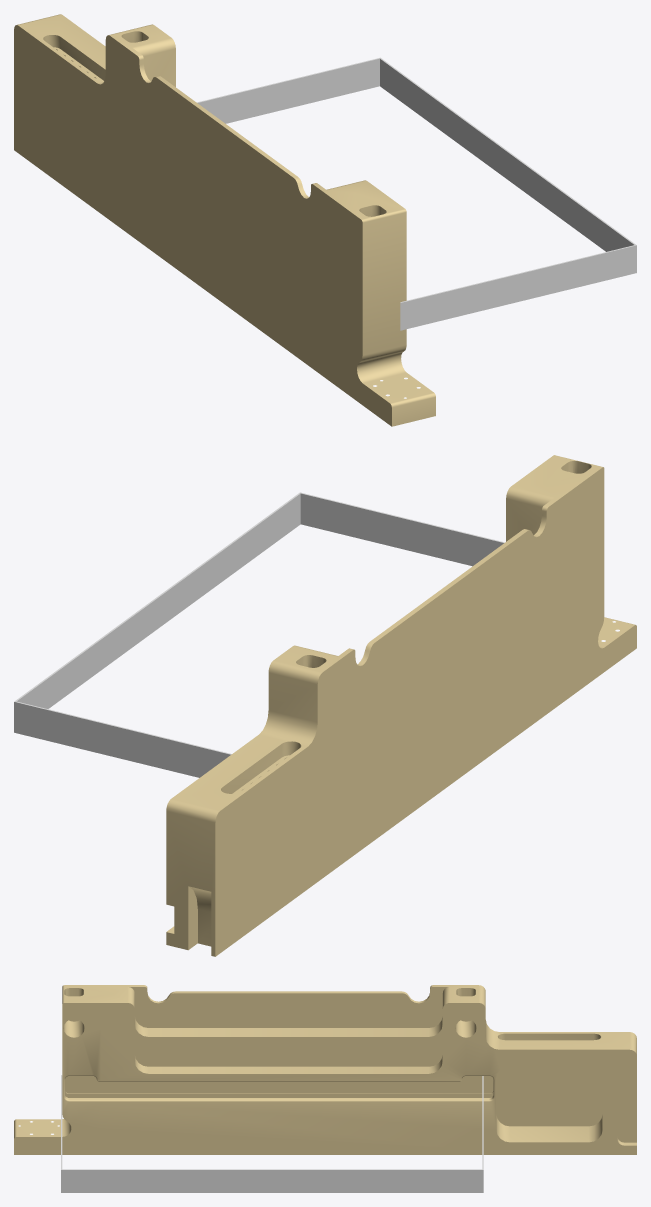
Rendered from WasteBlock.gltf.
The picture shows the model from 3 angles, top to bottom: view 1: azimuth 30°, elevation 25°; view 2: azimuth 150°, elevation 25°; view 3: azimuth 270°, elevation 25°; orthographic projection. The views are drawn at different scales.
Parts seen in each view (by area): view 1: Frame_SOLID_Mesh_STEP_ff00ff, Frame__MergedNode_0_001_Mesh_Material_003_0; view 2: Frame_SOLID_Mesh_STEP_ff00ff, Frame__MergedNode_0_001_Mesh_Material_003_0; view 3: Frame_SOLID_Mesh_STEP_ff00ff, Frame__MergedNode_0_001_Mesh_Material_003_0.
Part boxes in pixels (x1=…): Frame_SOLID_Mesh_STEP_ff00ff: x1=14, y1=14, x2=435, y2=426; Frame__MergedNode_0_001_Mesh_Material_003_0: x1=197, y1=57, x2=636, y2=330; Frame_SOLID_Mesh_STEP_ff00ff: x1=166, y1=455, x2=636, y2=956; Frame__MergedNode_0_001_Mesh_Material_003_0: x1=14, y1=492, x2=504, y2=777; Frame_SOLID_Mesh_STEP_ff00ff: x1=14, y1=985, x2=636, y2=1154; Frame__MergedNode_0_001_Mesh_Material_003_0: x1=61, y1=1075, x2=483, y2=1192.
Size of the model in its own units: 186 by 120 by 445.
